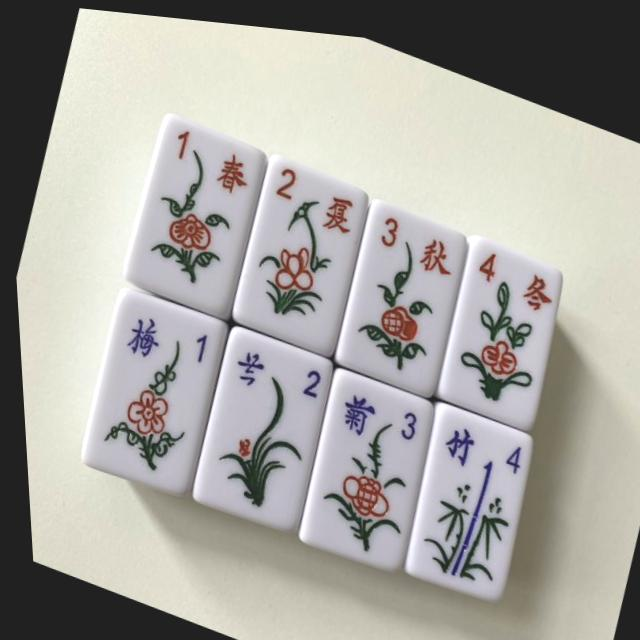bf1: (72, 280, 226, 496)
bf2: (183, 318, 331, 528)
bf3: (290, 358, 432, 568)
bf4: (394, 390, 531, 595)
bs1: (116, 107, 267, 317)
bs2: (225, 145, 369, 352)
bs3: (329, 187, 468, 391)
bs4: (430, 222, 562, 422)
